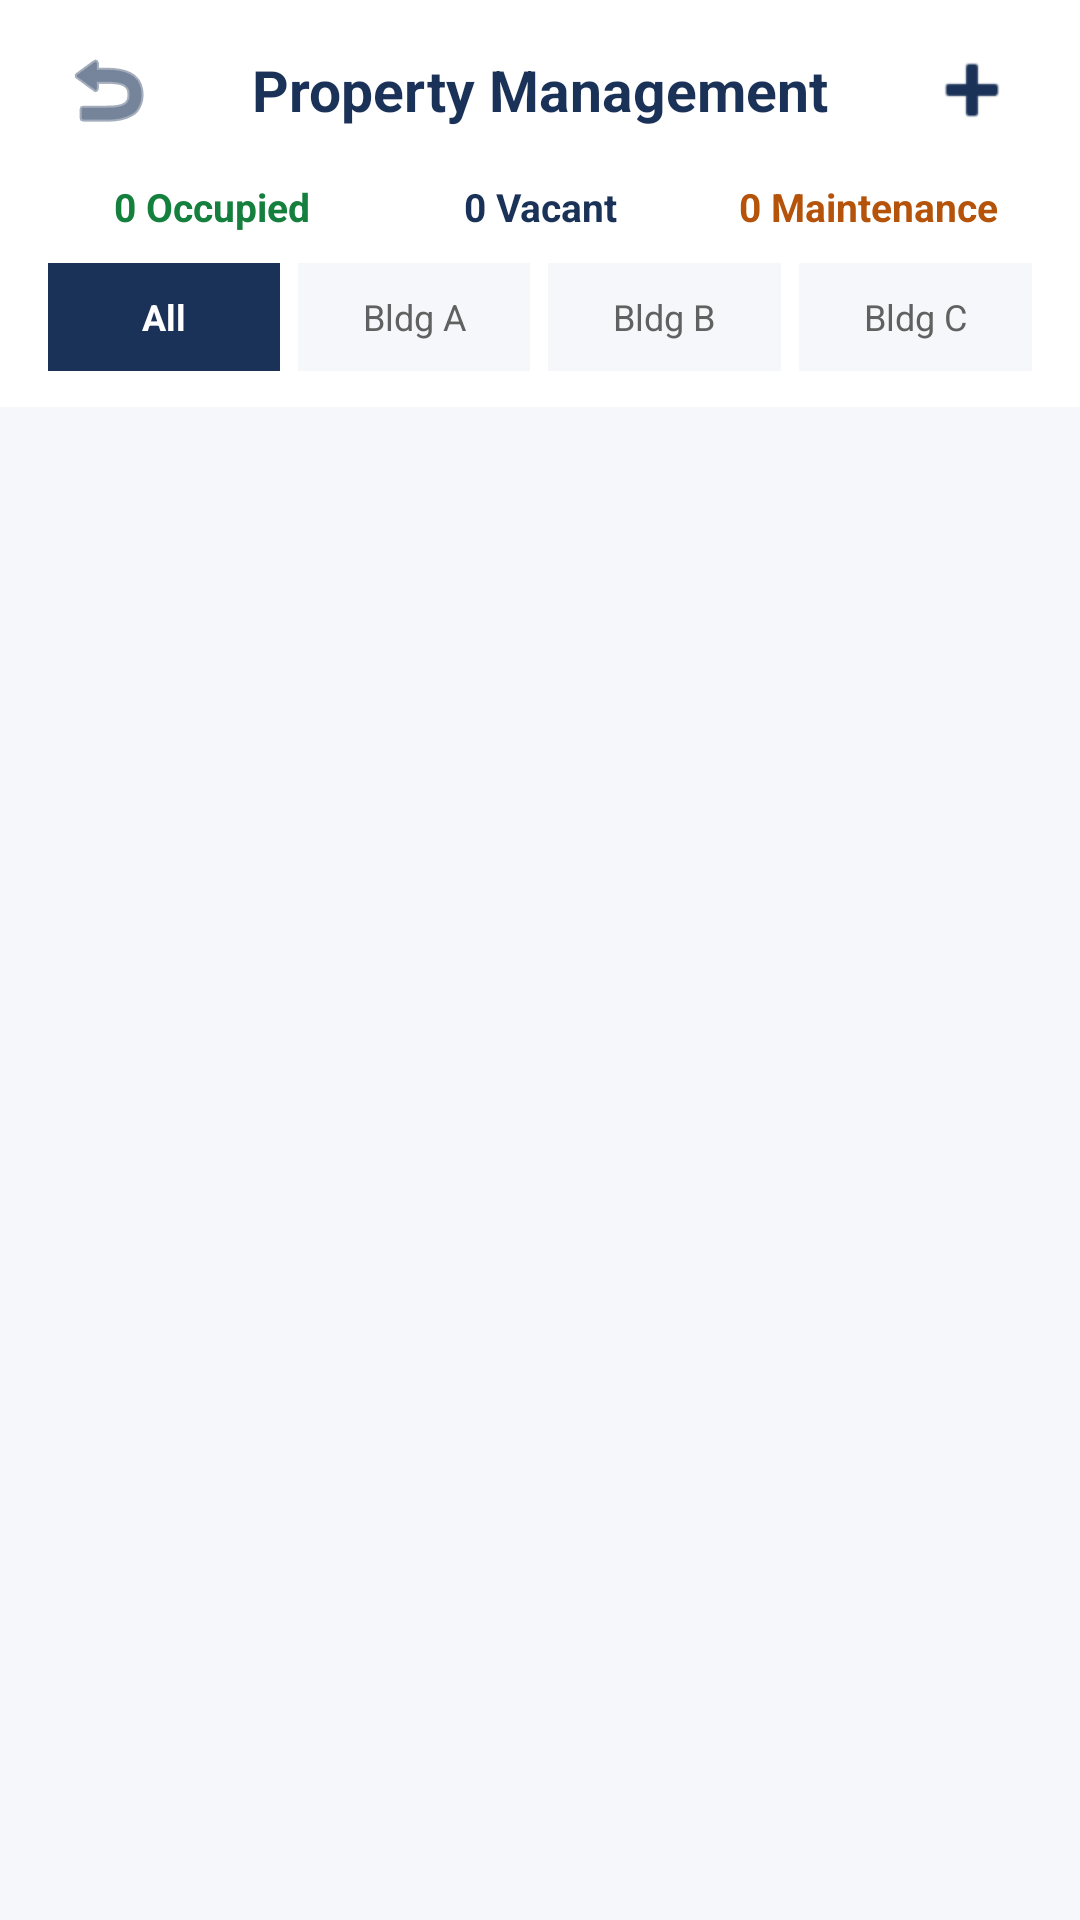

Icon bounding boxes for this 1080×1920 phone screenshot, format region(x1, y1, x2, y2):
Add Unit: region(945, 63, 999, 117)
Back: region(75, 59, 144, 122)
